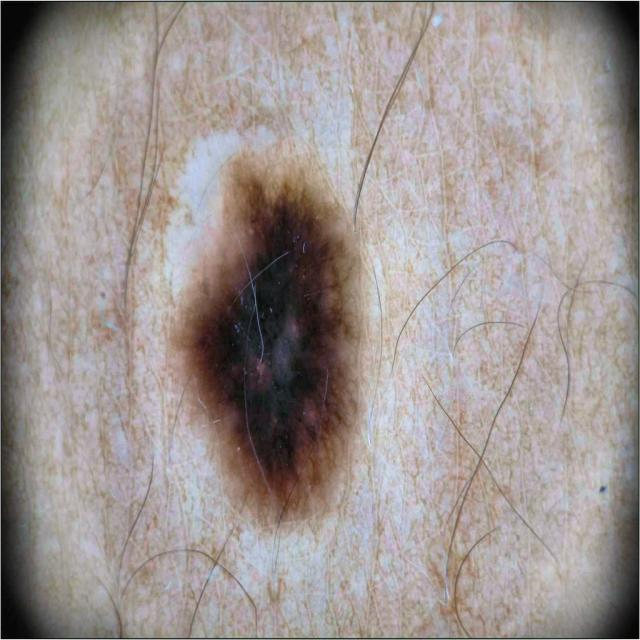Melanocytic-Nevi-NV-: (178, 157, 359, 518)
